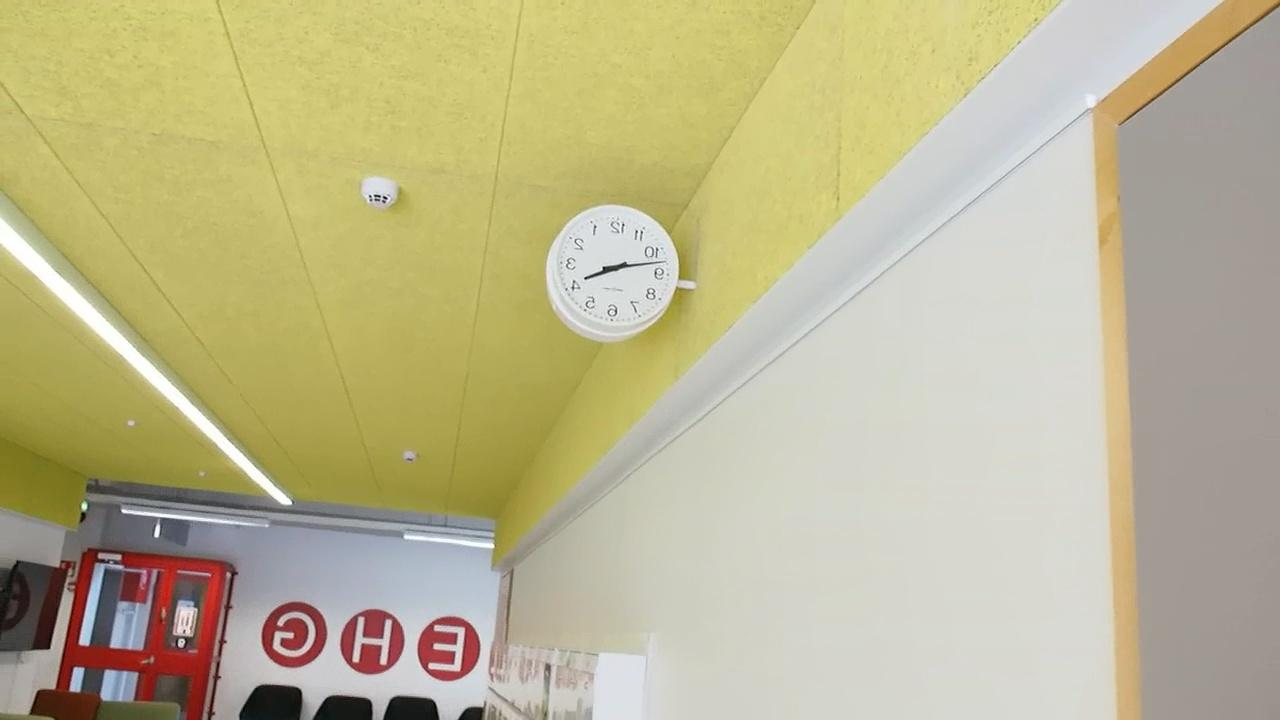clock: (548, 205, 682, 342)
